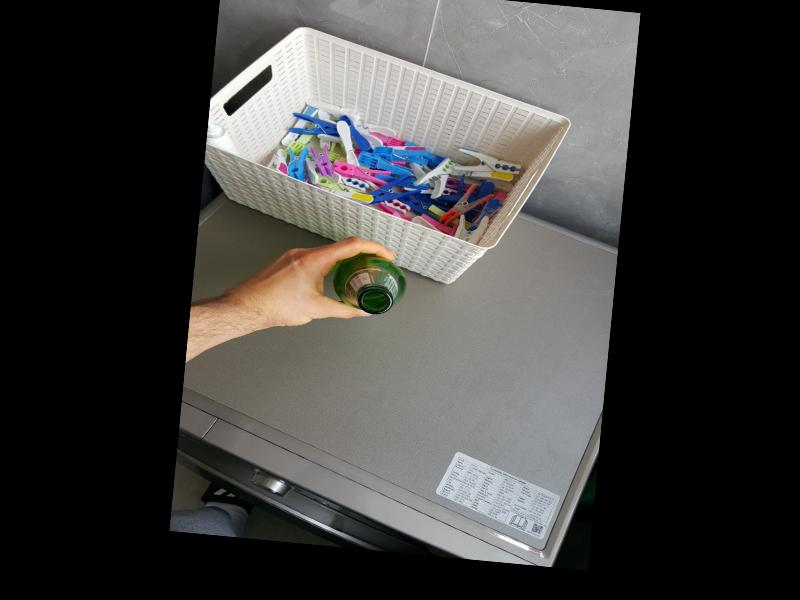Beer: (328, 250, 409, 318)
